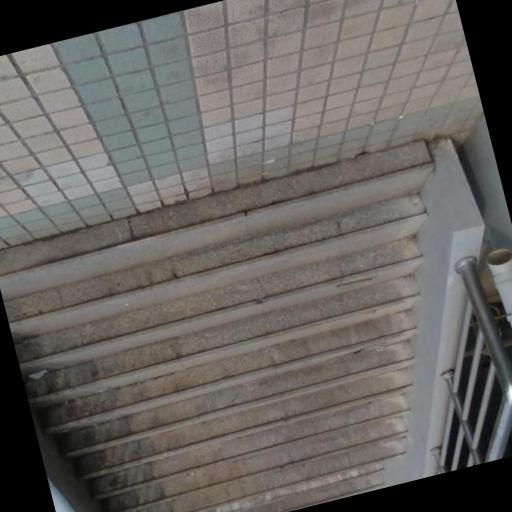stairs: (0, 141, 432, 511)
